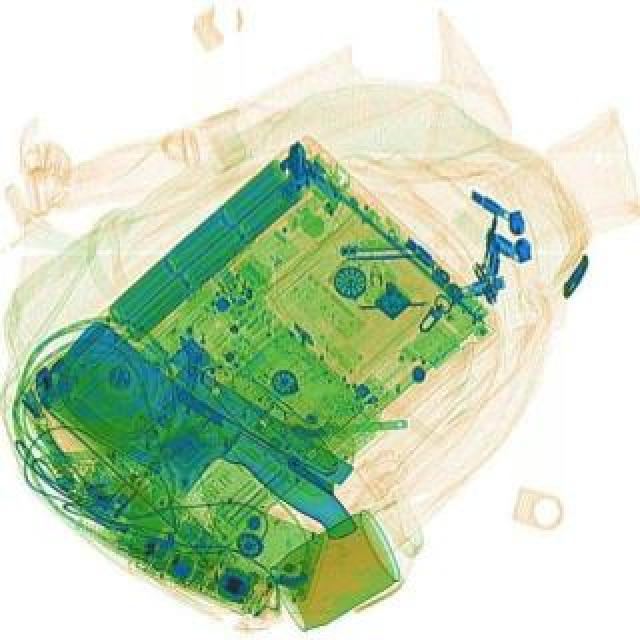knife: (34, 316, 364, 590)
